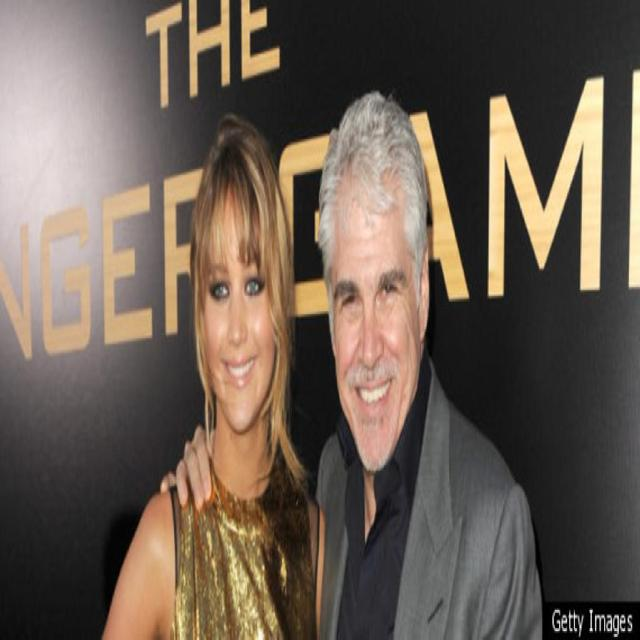Face: (331, 161, 425, 479), (203, 178, 279, 437)
